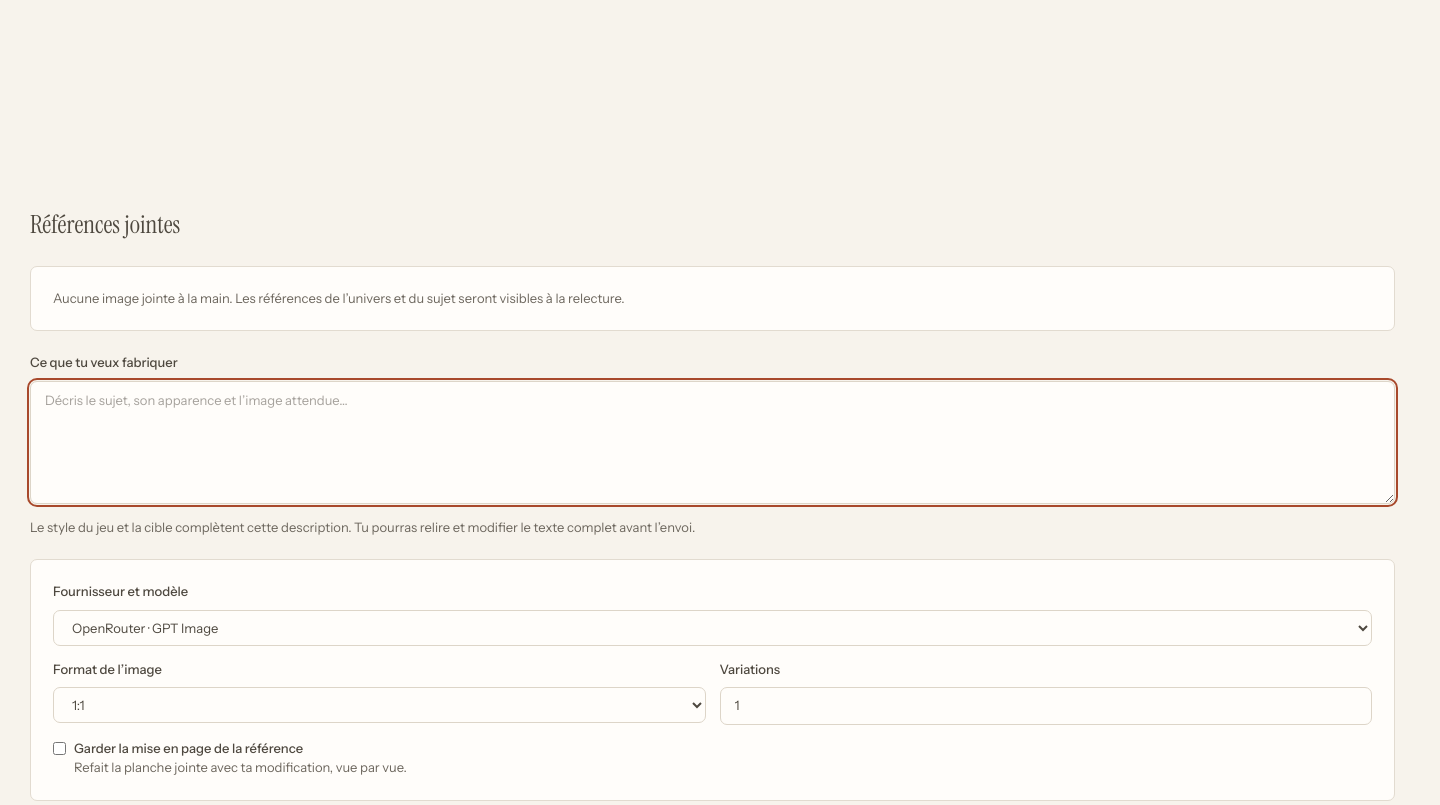
Test case: décochée, puis la mise en page recochée : la découpe revient cochée
(page scrolled)
Click the checkbox labelled "Garder la mise en page de la référence".
click(60, 748)  # box [53,742,66,755]
(page scrolled)
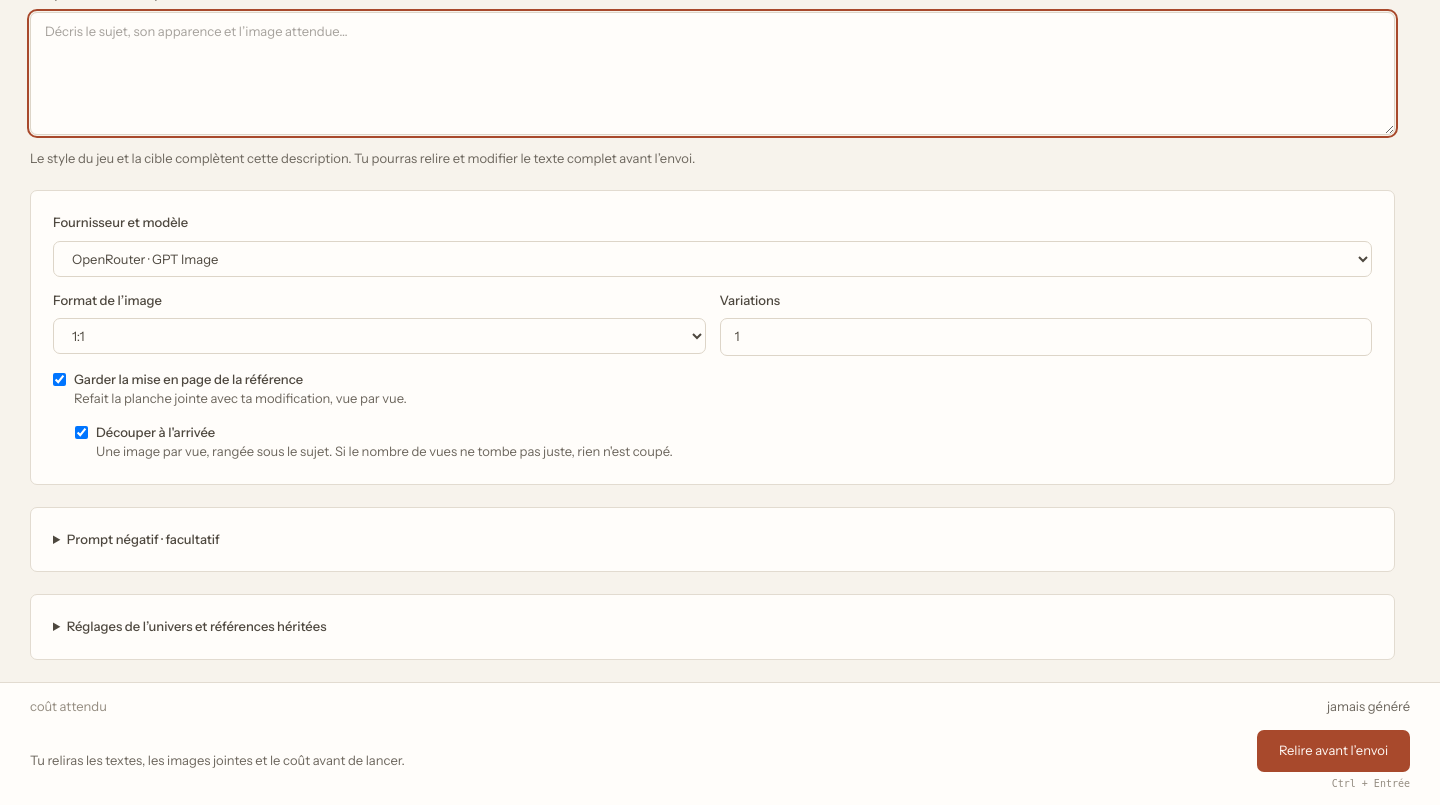
Click the checkbox labelled "Découper à l'arrivée".
click(82, 432)  # box [75,426,88,439]
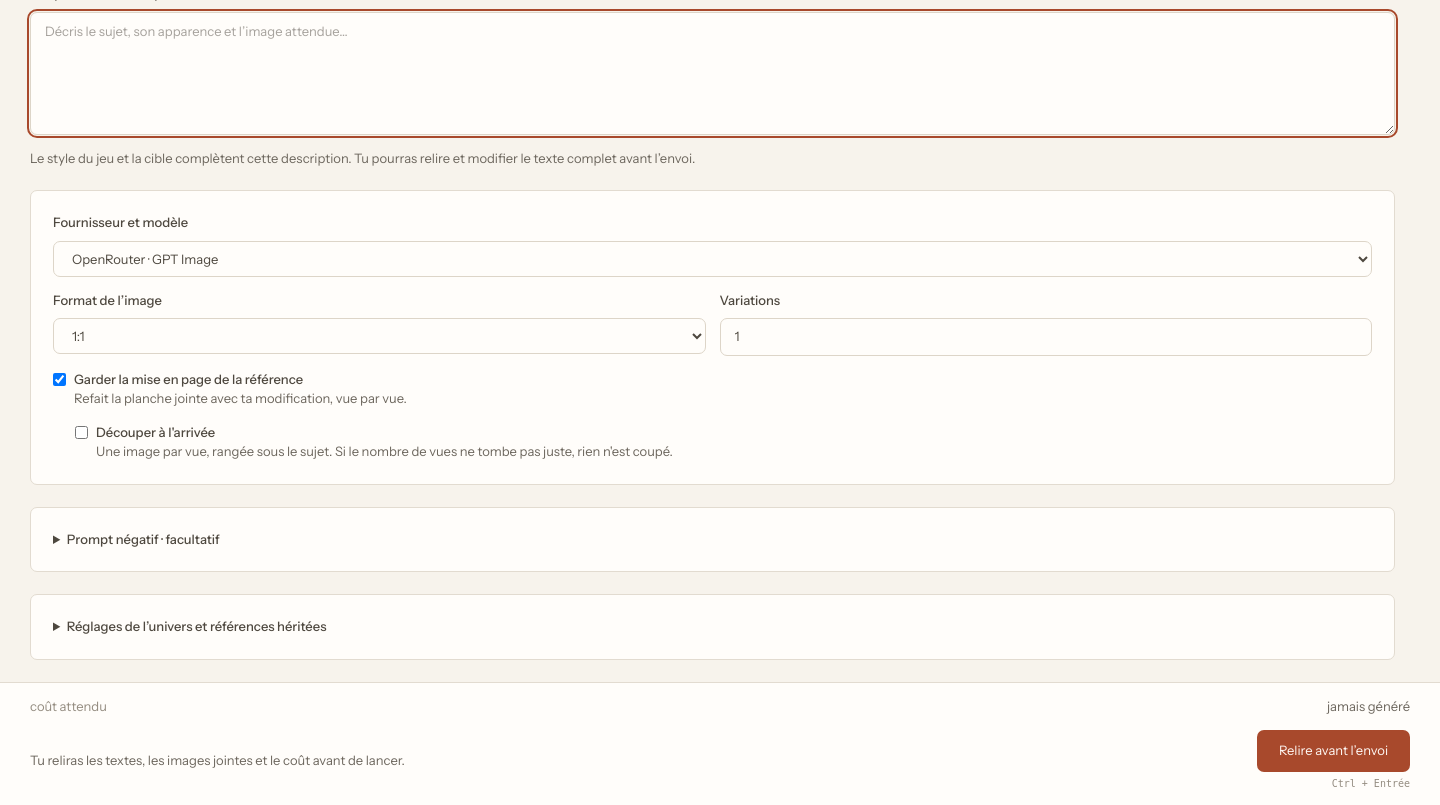
Expected: the checkbox labelled "Découper à l'arrivée" is not checked, [75,426,88,439]
Click the checkbox labelled "Garder la mise en page de la référence".
click(60, 379)  # box [53,373,66,386]
(page scrolled)
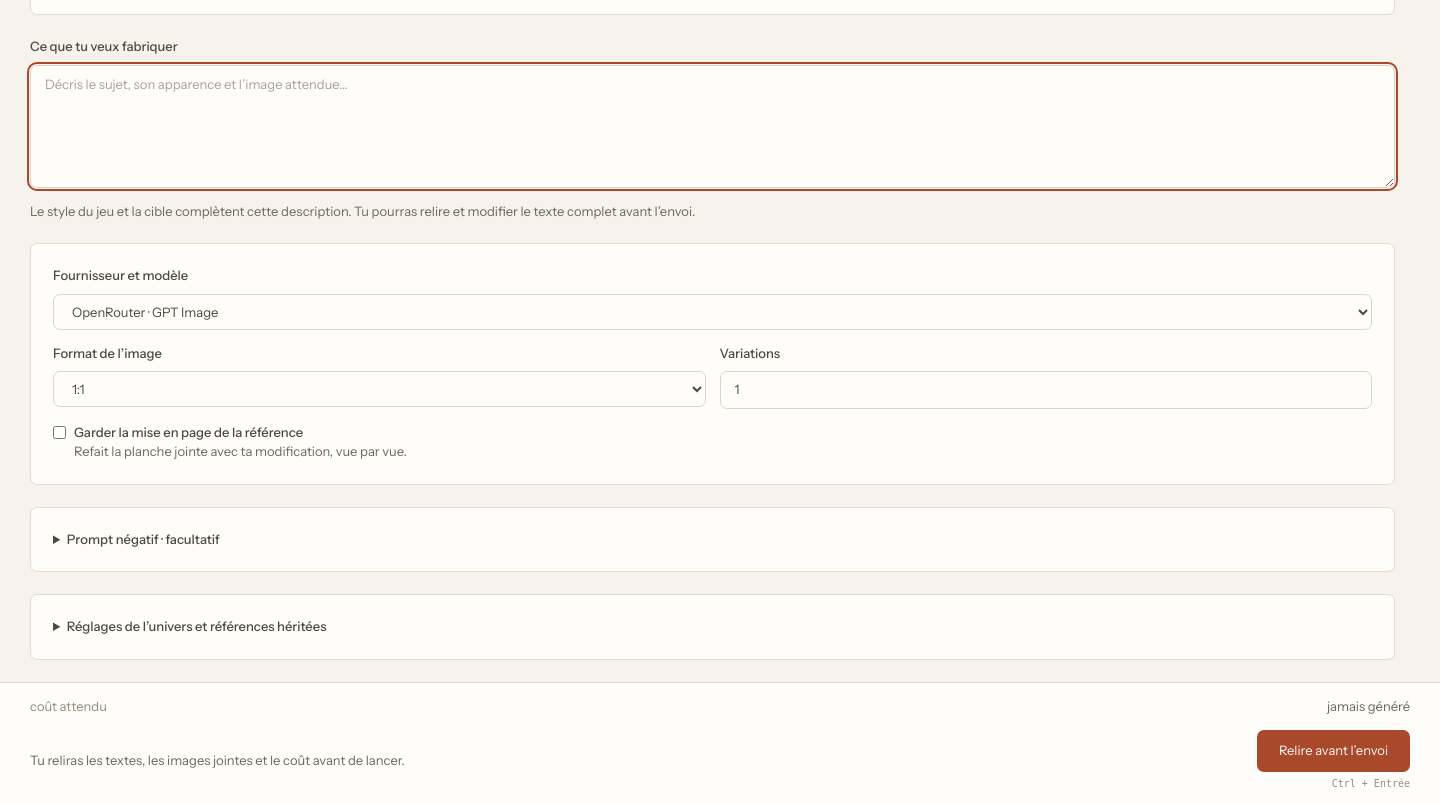
Click the checkbox labelled "Garder la mise en page de la référence".
click(60, 432)  # box [53,426,66,439]
(page scrolled)
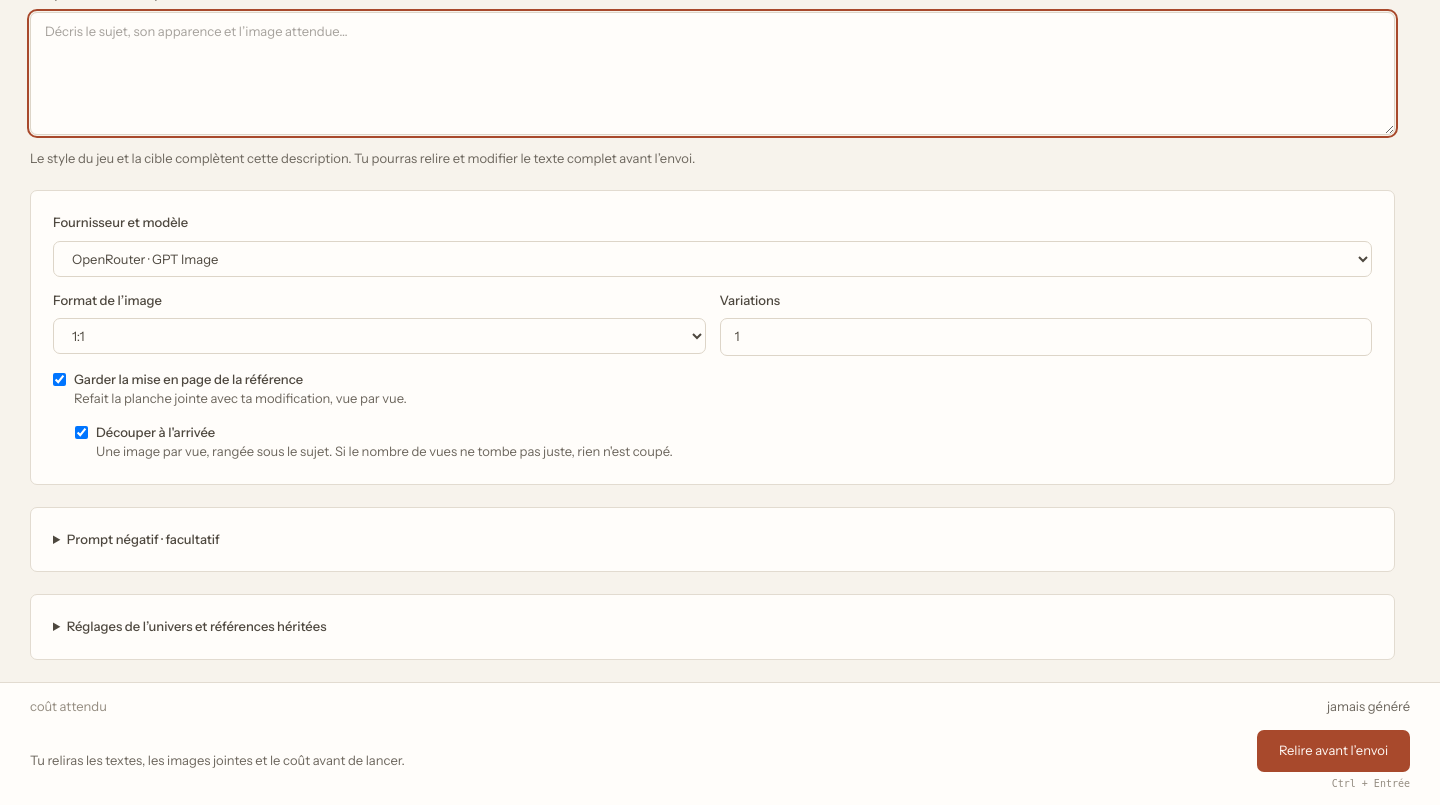
Expected: the checkbox labelled "Découper à l'arrivée" is checked, [75,426,88,439]
